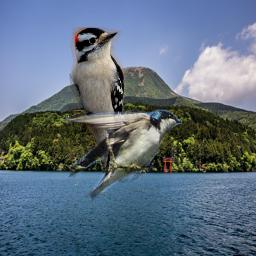Swallow: (60, 108, 182, 201)
Woodpecker: (68, 27, 124, 185)
